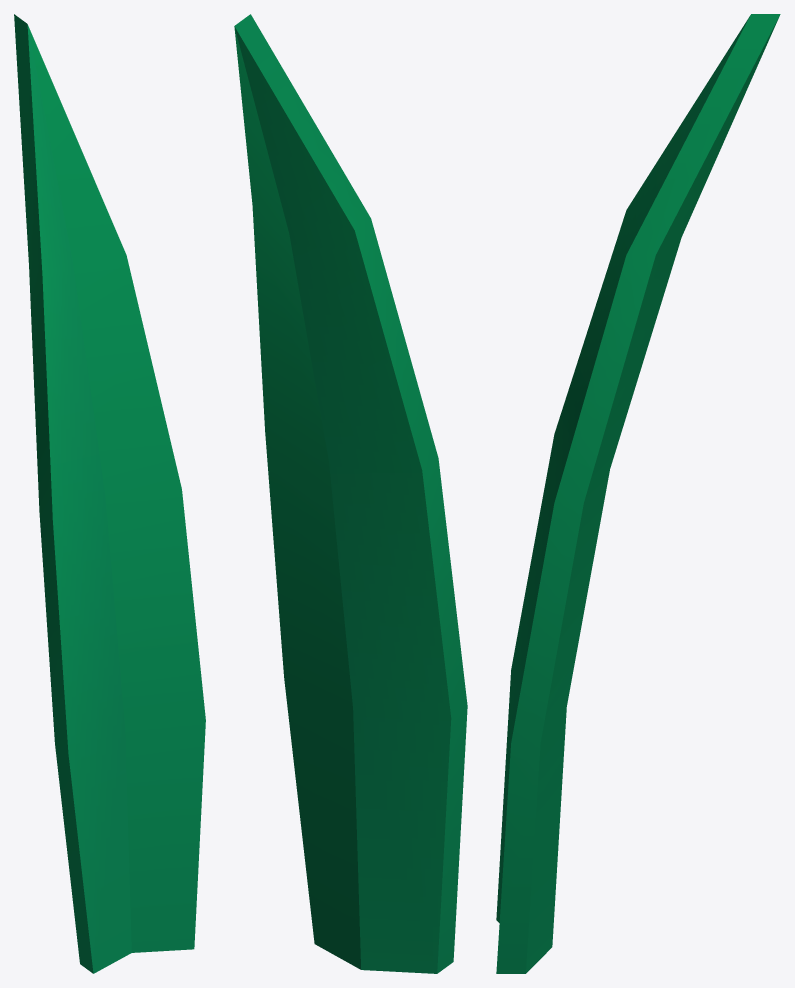
The model's file is Grass_2_A_Color2.fbx.
3 views of the same model, side by side, from view 1: azimuth 30°, elevation 25°; view 2: azimuth 150°, elevation 25°; view 3: azimuth 270°, elevation 25° (orthographic). The views are drawn at different scales.
Visible parts, largest first — view 1: Grass_2_A_Color2; view 2: Grass_2_A_Color2; view 3: Grass_2_A_Color2.
Part boxes in pixels (x1,y1,x2,y2): Grass_2_A_Color2: [14, 14, 205, 973]; Grass_2_A_Color2: [234, 14, 467, 973]; Grass_2_A_Color2: [496, 14, 780, 973].
Size of the model in its own units: 0.155 by 0.9188 by 0.2537.
